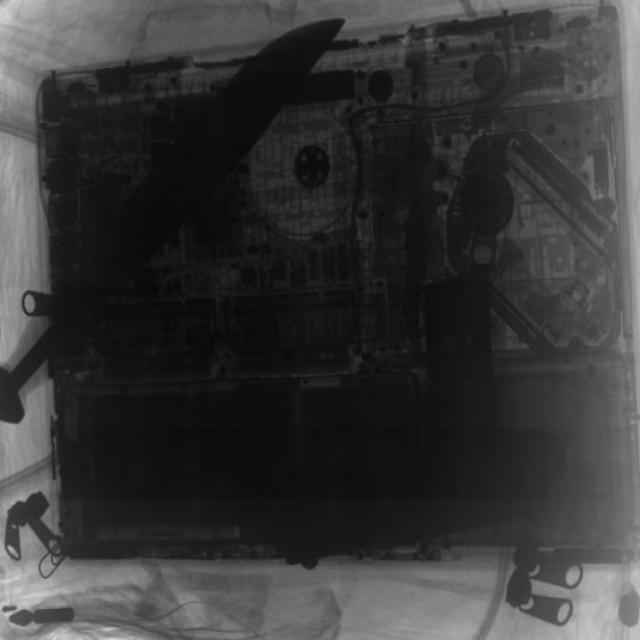GUN: (1, 20, 382, 457)
